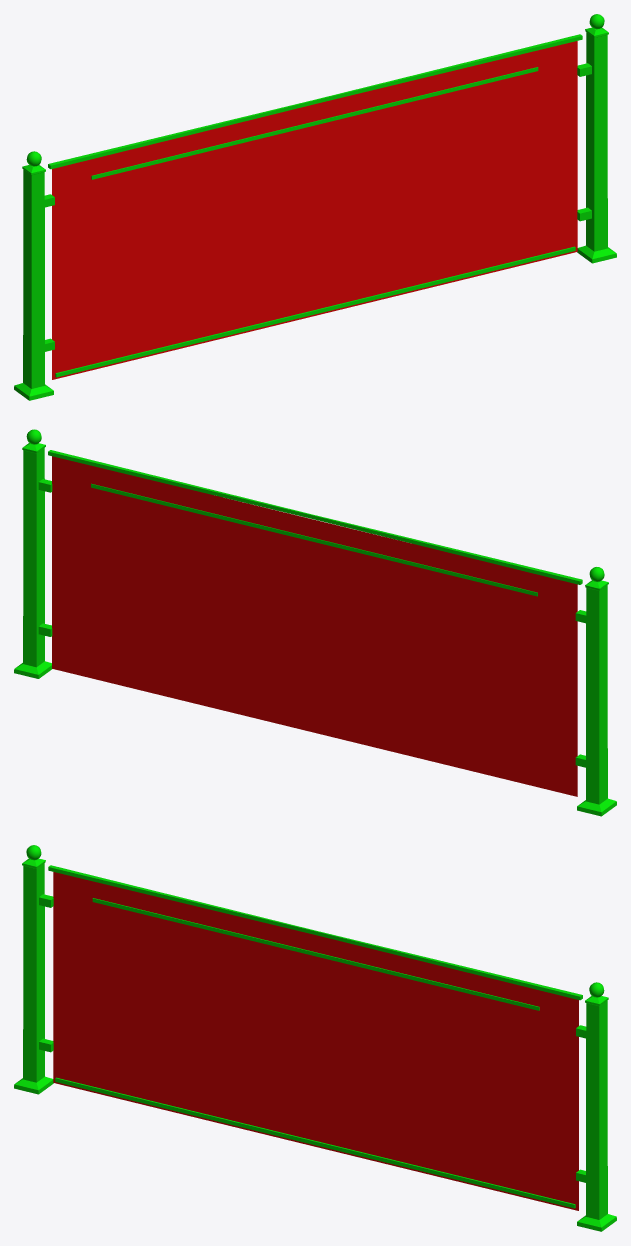
File: Fence_LP.fbx
The picture shows the model from 3 angles, top to bottom: view 1: azimuth 30°, elevation 25°; view 2: azimuth 150°, elevation 25°; view 3: azimuth 330°, elevation 25°; orthographic projection.
Parts seen in each view (by area): view 1: polySurface22, polySurface18; view 2: polySurface22, polySurface18; view 3: polySurface22, polySurface18.
Part boxes in pixels (<box>): polySurface22: <box>52,41,577,379</box>; polySurface18: <box>14,14,616,400</box>; polySurface22: <box>52,456,577,796</box>; polySurface18: <box>14,429,616,816</box>; polySurface22: <box>53,872,578,1210</box>; polySurface18: <box>14,845,616,1231</box>.
Bounding box in the file's own units: 14.29 × 5.59 × 0.6491.
